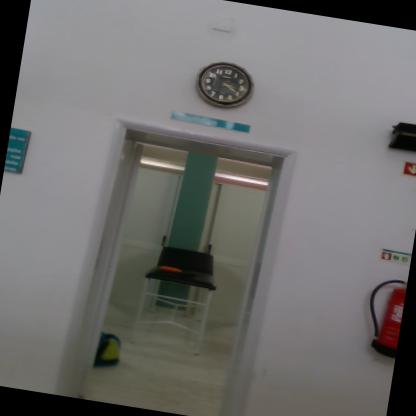open: (62, 117, 307, 415)
